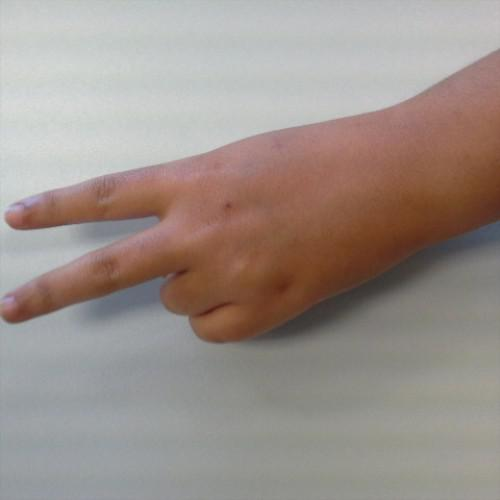scissors: (1, 111, 436, 350)
